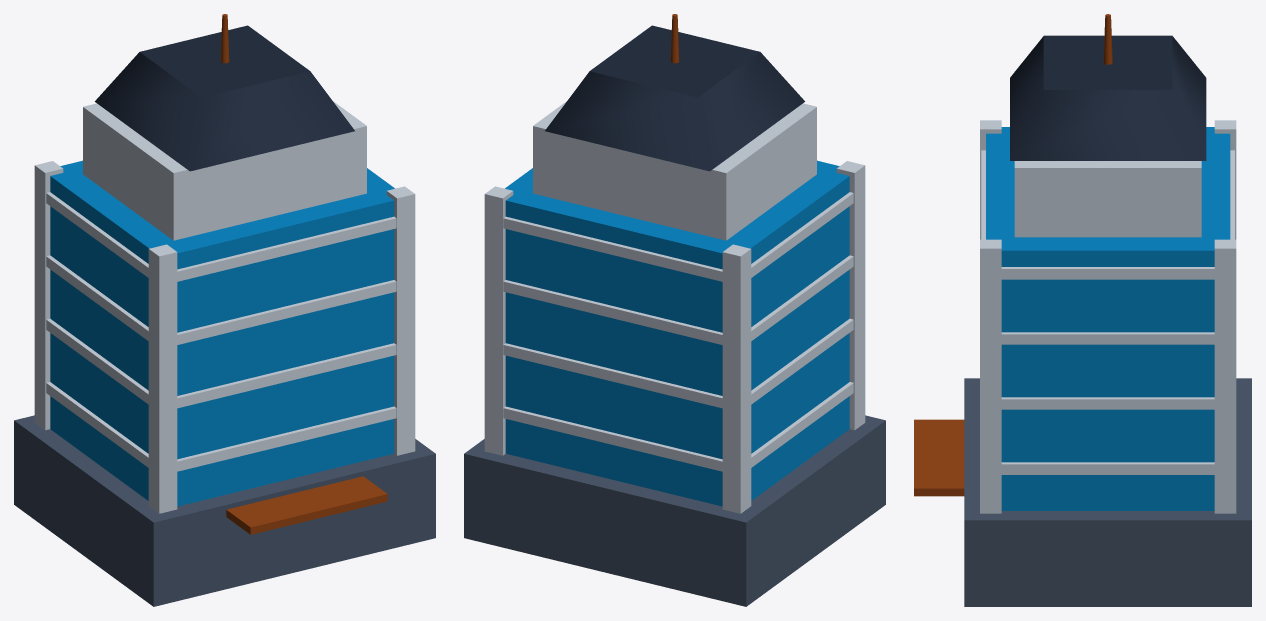
The model's file is commercial_hub.glb.
3 renders of one model, left to right at view 1: azimuth 30°, elevation 25°; view 2: azimuth 150°, elevation 25°; view 3: azimuth 270°, elevation 25°, orthographic. The views are drawn at different scales.
Parts seen in each view (by area): view 1: CommercialHub; view 2: CommercialHub; view 3: CommercialHub.
Part boxes in pixels (<box>): CommercialHub: <box>14,14,435,606</box>; CommercialHub: <box>464,14,885,606</box>; CommercialHub: <box>914,14,1251,606</box>.
Bounding box in the file's own units: 14 × 24 × 14.1.
